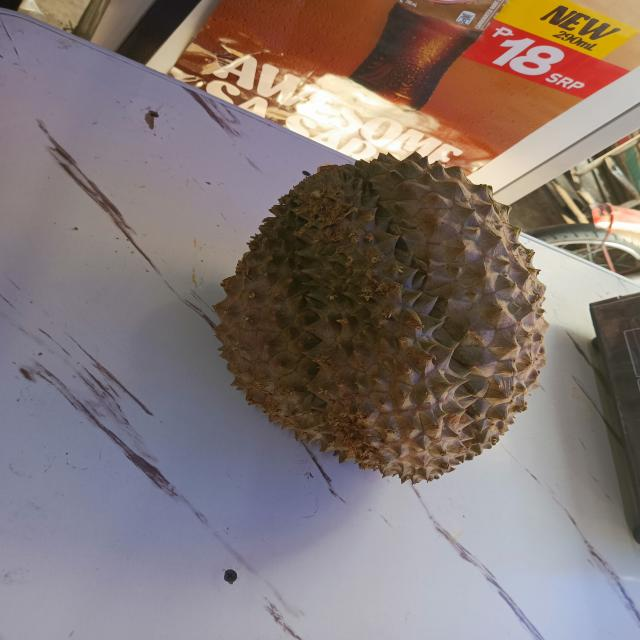mature: (218, 147, 539, 484)
